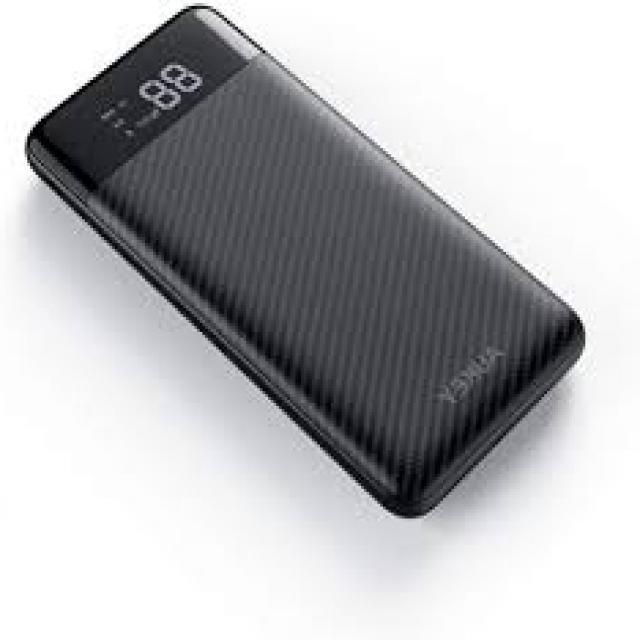battery: (24, 3, 589, 523)
